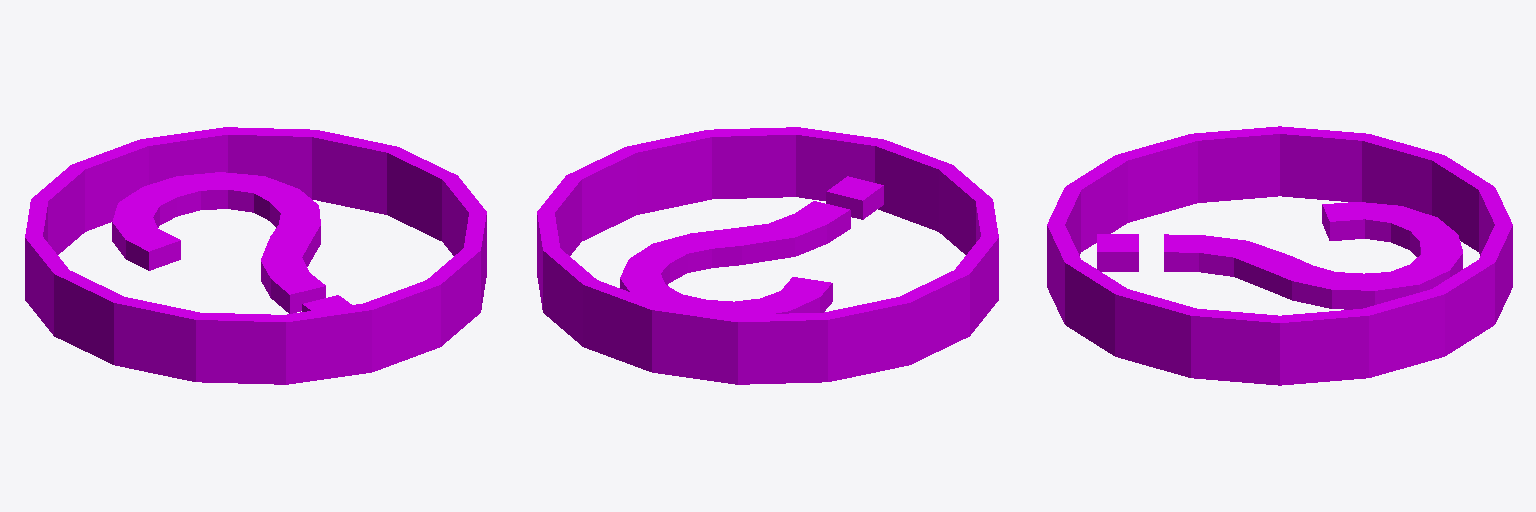
File: IndiceViolet.obj
3 renders of one model, left to right at view 1: azimuth 30°, elevation 25°; view 2: azimuth 150°, elevation 25°; view 3: azimuth 270°, elevation 25°, orthographic.
Parts seen in each view (by area): view 1: IndiceSocleVi, IndiceInteroVi; view 2: IndiceSocleVi, IndiceInteroVi; view 3: IndiceSocleVi, IndiceInteroVi.
Boxes of the visible parts, box(x1,y1,x2,y2) form: IndiceSocleVi: box(25, 127, 486, 384); IndiceInteroVi: box(112, 172, 351, 313); IndiceSocleVi: box(537, 127, 998, 384); IndiceInteroVi: box(620, 176, 883, 314); IndiceSocleVi: box(1047, 126, 1512, 385); IndiceInteroVi: box(1097, 202, 1462, 309).
Bounding box in the file's own units: 231 × 34.21 × 231.